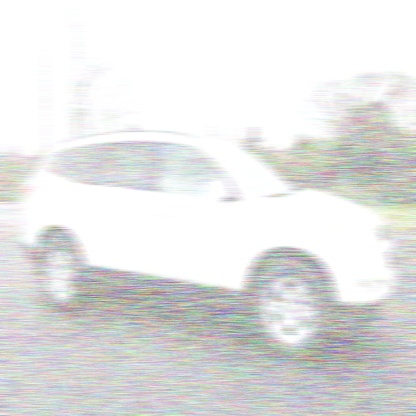Vehicle: (19, 124, 399, 367)
